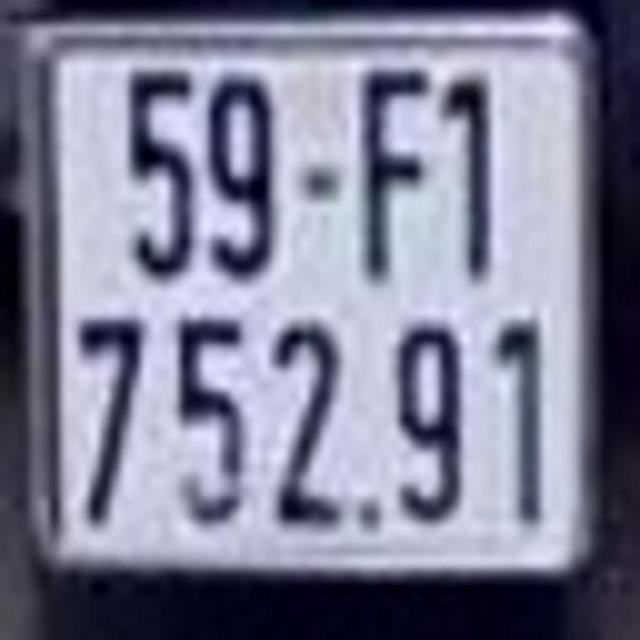1: (485, 306, 556, 528), (440, 64, 506, 282)
2: (268, 304, 346, 534)
5: (176, 305, 250, 528), (126, 66, 196, 281)
7: (76, 300, 145, 527)
9: (202, 66, 276, 281), (393, 312, 467, 525)
F: (356, 62, 432, 282)
